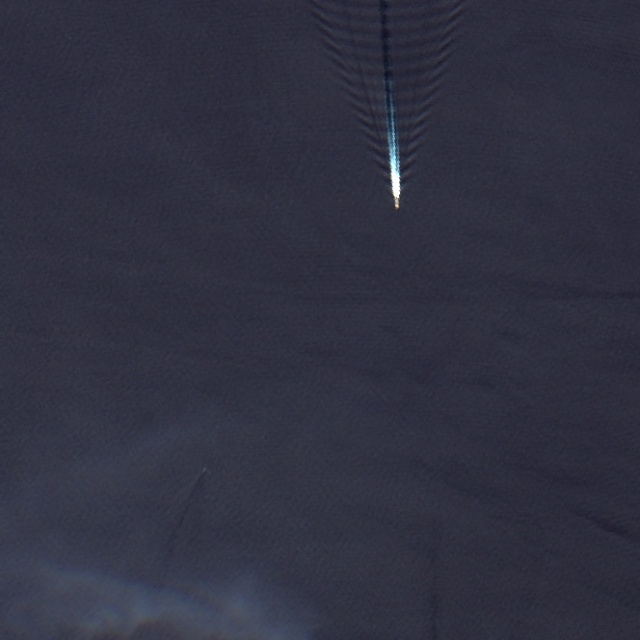wake: (337, 17, 444, 214)
